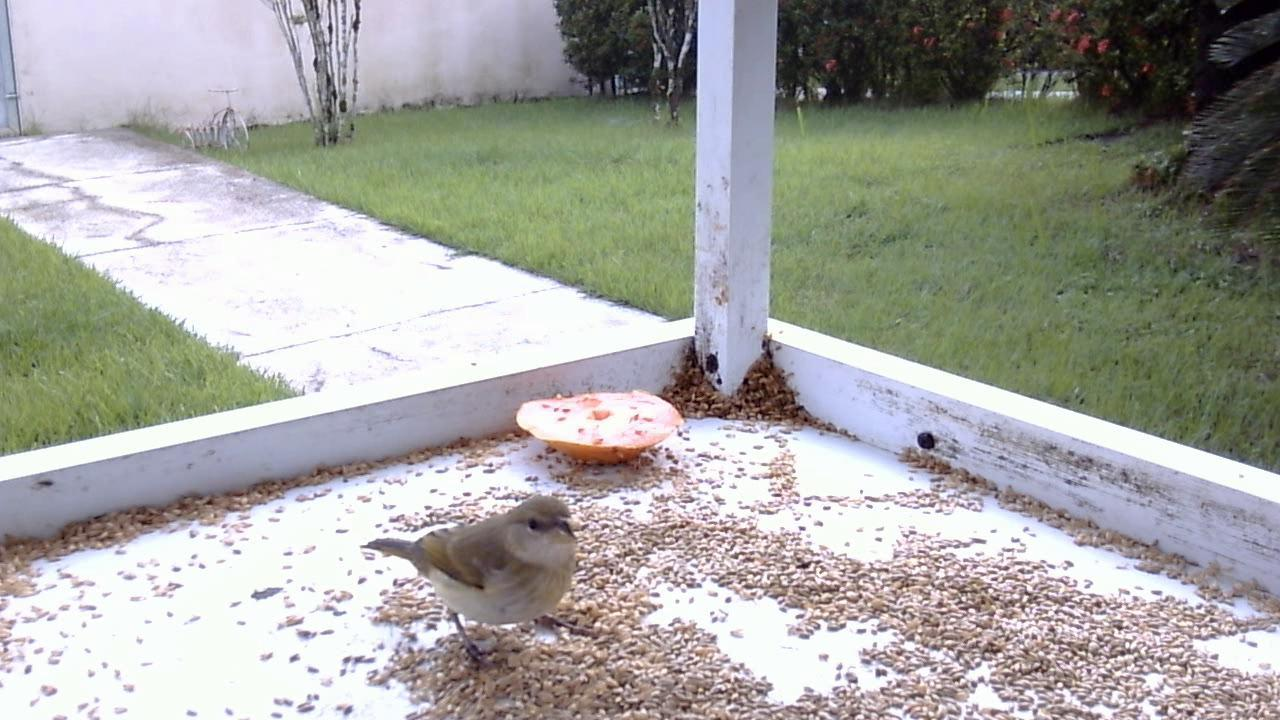canario_do_amazonas: (354, 489, 592, 675)
